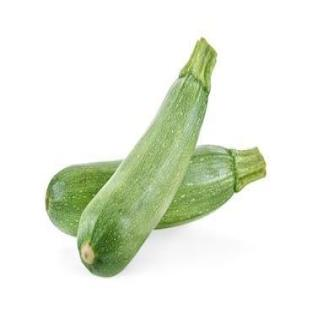Zucchini: (78, 39, 215, 275), (156, 146, 265, 227)
